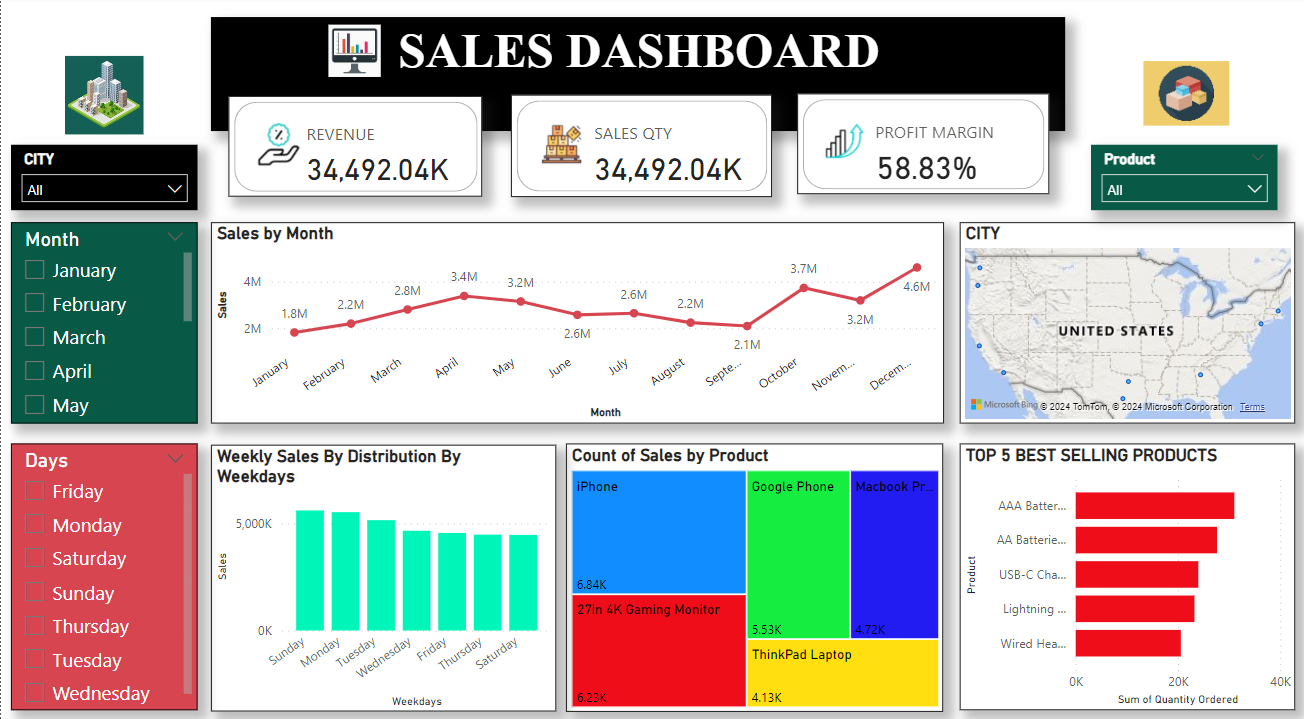

The page's visual inventory and layout, read from the dashboard file:
{"tool":"powerbi","page":{"name":"Page 1","canvas":[1280,720],"ordinal":0},"visuals":[{"type":"textbox","title":" ","box":[32,18.1,1209.4,93.1],"z":0},{"type":"lineChart","title":"Sales by Month","fields":{"Category":["SalesStore.Order_Date.Variation.Date Hierarchy.Month"],"Y":["SalesStore.Sales"]},"box":[257.2,229.4,738.1,201.6],"z":1000},{"type":"slicer","title":"City","fields":{"Values":["SalesStore.Order Rating"]},"box":[272.5,129.3,218.2,86.2],"z":2000},{"type":"slicer","title":"City","fields":{"Values":["SalesStore.Region"]},"box":[32,129.3,225.2,86.2],"z":3000},{"type":"barChart","title":"TOP 5 BEST SELLING PRODUCTS","fields":{"Category":["SalesStore.Sub_Category"],"Y":["SalesStore.Quantity"]},"box":[982.8,440.7,258.6,259.9],"z":4000},{"type":"treemap","fields":{"Group":["SalesStore.Sub_Category","SalesStore.Column"],"Values":["SalesStore.Sales"]},"box":[257.2,440.7,357.3,259.9],"z":5000},{"type":"columnChart","title":"Weekly Sales By Distribution By Weekdays","fields":{"Category":["SalesStore.Column"],"Y":["SalesStore.Sales"]},"box":[622.8,440.7,347.5,259.9],"z":6000},{"type":"slicer","fields":{"Values":["SalesStore.Column"]},"box":[1007.8,141.8,233.5,289.1],"z":6001},{"type":"slicer","fields":{"Values":["SalesStore.Order_Date.Variation.Date Hierarchy.Month"]},"box":[32,229.4,211.3,471.2],"z":6002},{"type":"slicer","title":"City","fields":{"Values":["SalesStore.Ship_Mode"]},"box":[519.9,129.3,214.1,86.2],"z":6003},{"type":"slicer","title":"City","fields":{"Values":["SalesStore.Category"]},"box":[768.7,129.3,214.1,86.2],"z":6004}]}

Visuals, with their boxes in screenshot pixels (x1, y1, x2, y2), scaled from the page's 1280x720 canvas onto the 1304x719 screenshot:
" " textbox: x1=33, y1=18, x2=1265, y2=111
"Sales by Month" lineChart: x1=262, y1=229, x2=1014, y2=430
"City" slicer: x1=278, y1=129, x2=500, y2=215
"City" slicer: x1=33, y1=129, x2=262, y2=215
"TOP 5 BEST SELLING PRODUCTS" barChart: x1=1001, y1=440, x2=1265, y2=700
treemap - SalesStore.Sub_Category x SalesStore.Column: x1=262, y1=440, x2=626, y2=700
"Weekly Sales By Distribution By Weekdays" columnChart: x1=634, y1=440, x2=988, y2=700
slicer - SalesStore.Column: x1=1027, y1=142, x2=1265, y2=430
slicer - SalesStore.Order_Date.Variation.Date Hierarchy.Month: x1=33, y1=229, x2=248, y2=700
"City" slicer: x1=530, y1=129, x2=748, y2=215
"City" slicer: x1=783, y1=129, x2=1001, y2=215
